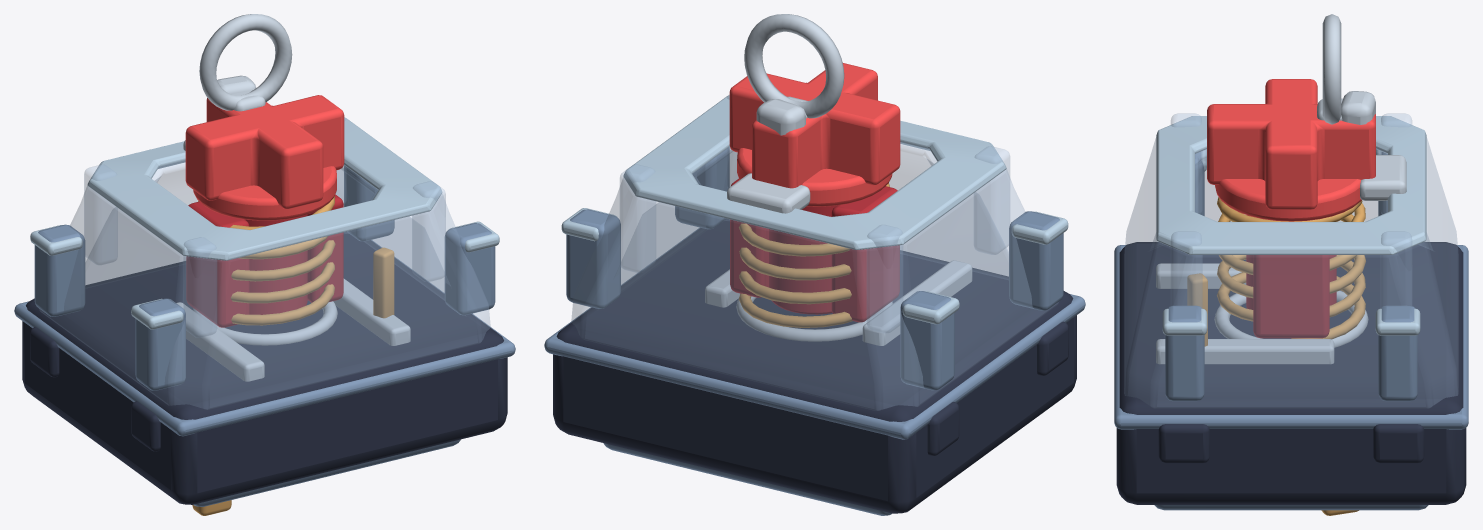
Rendered from switch.glb.
3 views of the same model, side by side, from view 1: azimuth 30°, elevation 25°; view 2: azimuth 150°, elevation 25°; view 3: azimuth 270°, elevation 25° (orthographic). The views are drawn at different scales.
Parts seen in each view (by area): view 1: Obsidian | molded nylon, Glacier | translucent shell, Blue-gray | housing latches, Ice | shell edge, Coral | molded POM, Polished steel | eyelet and spring ends, Carmine | stem runner, Champagne | phosphor bronze; view 2: Obsidian | molded nylon, Glacier | translucent shell, Blue-gray | housing latches, Ice | shell edge, Coral | molded POM, Polished steel | eyelet and spring ends, Carmine | stem runner, Champagne | phosphor bronze; view 3: Obsidian | molded nylon, Glacier | translucent shell, Ice | shell edge, Coral | molded POM, Blue-gray | housing latches, Polished steel | eyelet and spring ends, Carmine | stem runner, Champagne | phosphor bronze.
Part boxes in pixels (x1,y1,x2,y2): Obsidian | molded nylon: (22, 232, 507, 504); Glacier | translucent shell: (39, 117, 490, 409); Blue-gray | housing latches: (14, 165, 515, 506); Ice | shell edge: (30, 117, 499, 329); Coral | molded POM: (185, 95, 344, 220); Polished steel | eyelet and spring ends: (176, 14, 410, 381); Carmine | stem runner: (186, 194, 343, 327); Champagne | phosphor bronze: (192, 196, 394, 515); Obsidian | molded nylon: (553, 219, 1076, 513); Glacier | translucent shell: (571, 95, 1058, 410); Blue-gray | housing latches: (544, 147, 1085, 515); Ice | shell edge: (561, 95, 1068, 324); Coral | molded POM: (729, 63, 900, 206); Polished steel | eyelet and spring ends: (705, 14, 972, 345); Carmine | stem runner: (730, 178, 899, 322); Champagne | phosphor bronze: (739, 183, 889, 327); Obsidian | molded nylon: (1116, 242, 1466, 504); Glacier | translucent shell: (1124, 113, 1458, 408); Ice | shell edge: (1156, 116, 1426, 335); Coral | molded POM: (1207, 79, 1375, 221); Blue-gray | housing latches: (1114, 152, 1468, 510); Polished steel | eyelet and spring ends: (1156, 14, 1406, 364); Carmine | stem runner: (1246, 215, 1336, 338); Champagne | phosphor bronze: (1187, 197, 1365, 515).
Size of the model in its own units: 0.74 by 0.886 by 0.612.
